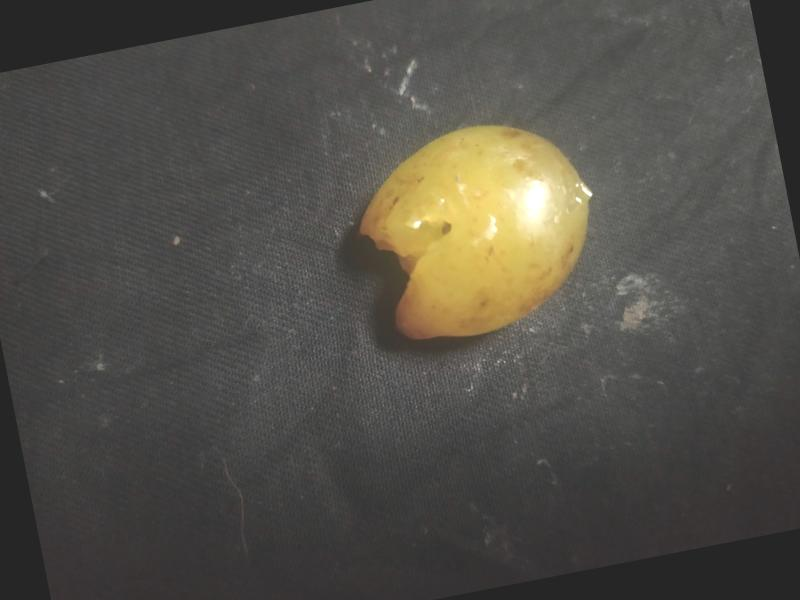Grape Overripe: (339, 102, 614, 356)
